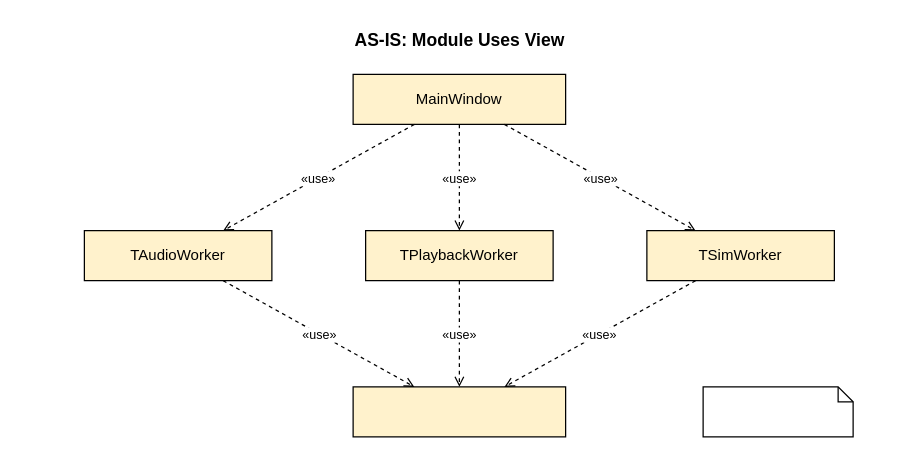
Image size: 918x459. Some labels were removed from this diagram. The shapes that lost their labels are listed below. From the top down, each one's centre as x and y in pixels, then its label:
At [459,411]: "DSPWorker".
At [777,411]: "Notation: UML".
